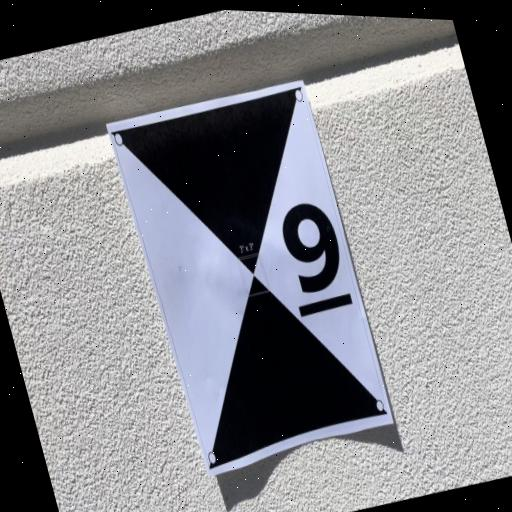target9: (106, 79, 394, 477)
